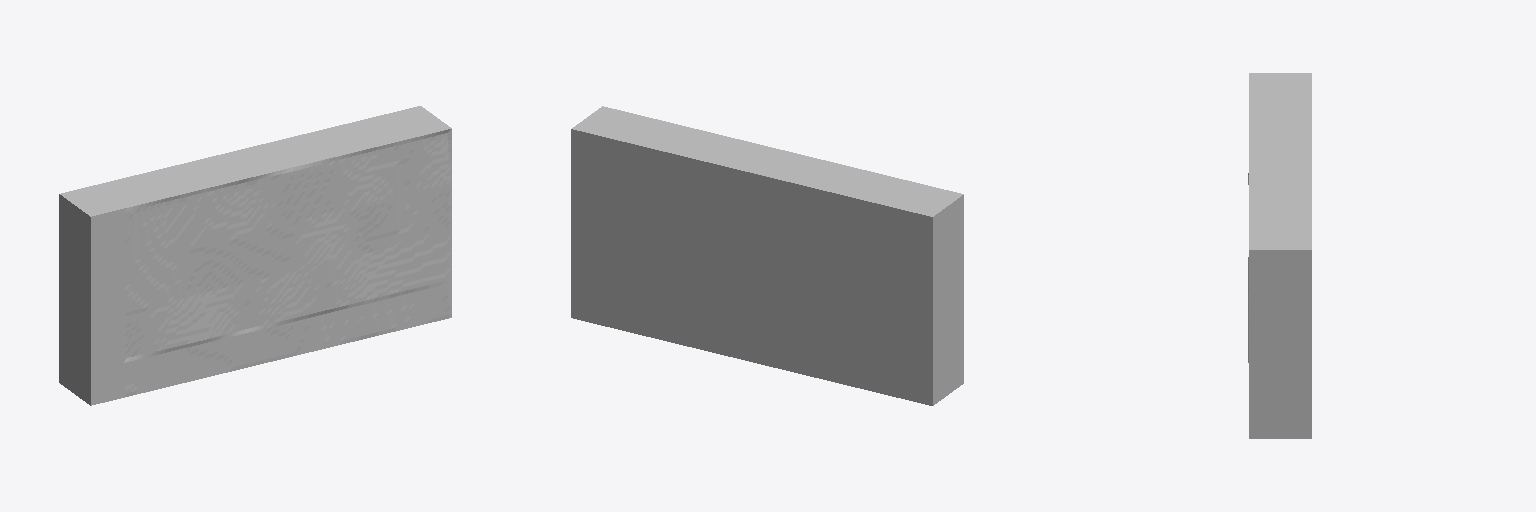
The model's file is rectangular_prism_bumps_0_4.obj.
3 views of the same model, side by side, from view 1: azimuth 30°, elevation 25°; view 2: azimuth 150°, elevation 25°; view 3: azimuth 270°, elevation 25° (orthographic).
Bounding box in the file's own units: 10 × 5 × 1.53.